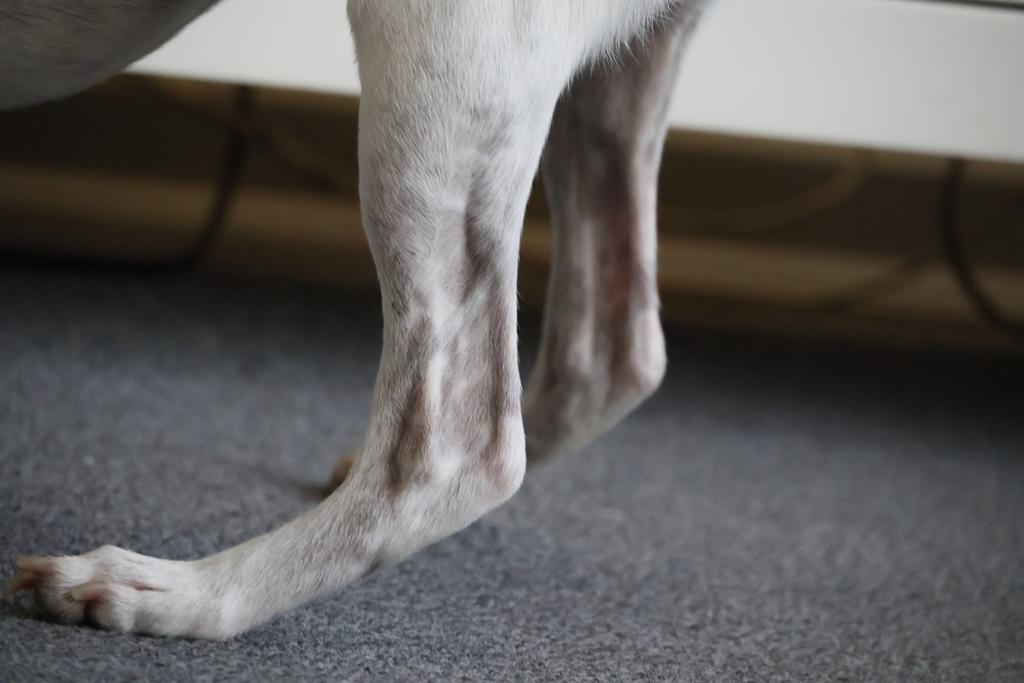Dog: (0, 0, 710, 649)
